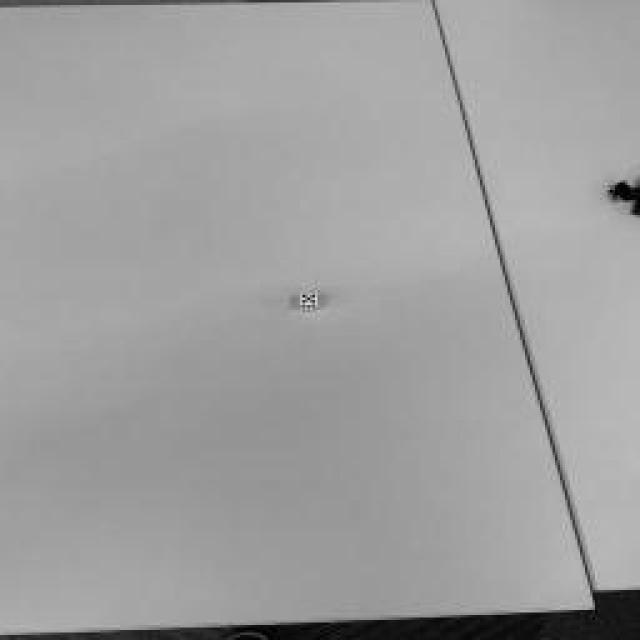dice_5: (300, 294, 318, 304)
